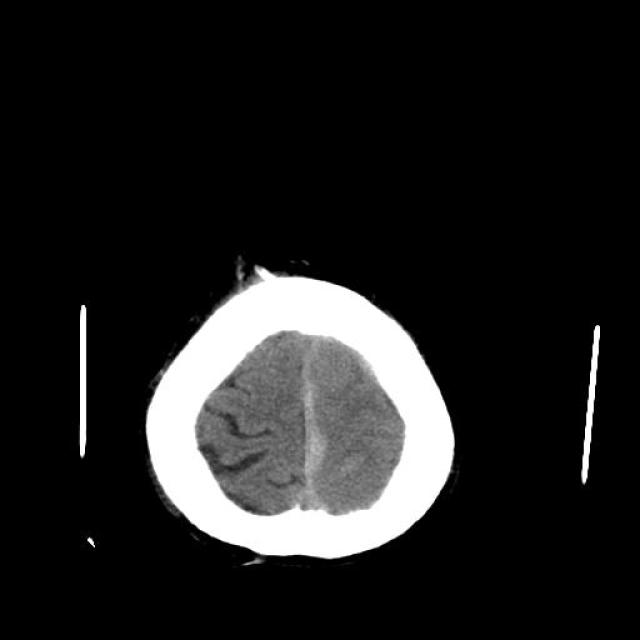Subdural: (286, 362, 358, 526)
